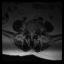CCS_normal: (31, 28, 32, 37)
LFS_normal: (34, 28, 36, 34)
LLS_normal: (32, 28, 34, 36)
RFS_stenosis: (27, 27, 29, 34)
RLS_normal: (29, 28, 31, 36)
